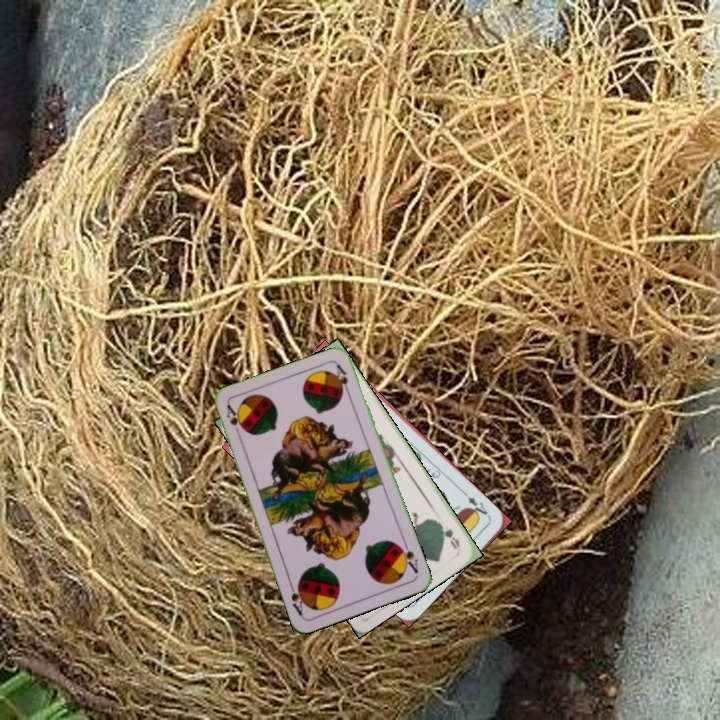EA: (460, 488, 493, 522)
GO: (433, 517, 462, 552)
SA: (394, 537, 421, 576), (223, 401, 245, 440)
